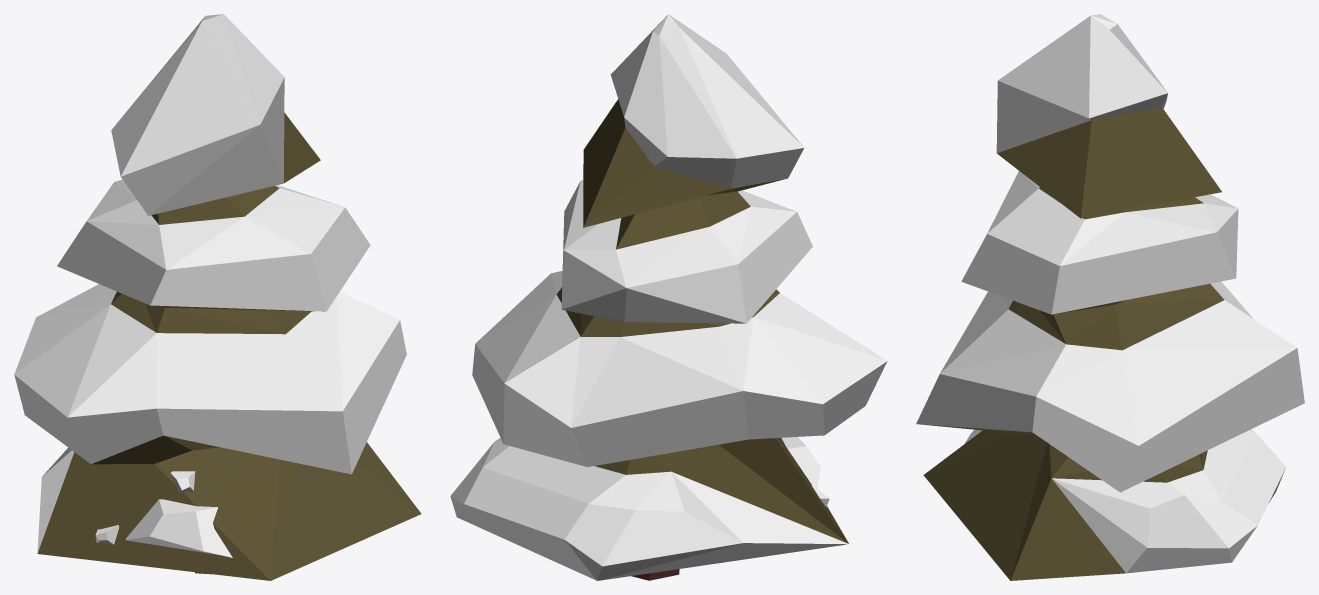
The model's file is TreeWinter5_Alt1.fbx.
3 renders of one model, left to right at view 1: azimuth 30°, elevation 25°; view 2: azimuth 150°, elevation 25°; view 3: azimuth 270°, elevation 25°, orthographic. The views are drawn at different scales.
Parts seen in each view (by area): view 1: TreeWinter5_Alt1; view 2: TreeWinter5_Alt1; view 3: TreeWinter5_Alt1.
Part boxes in pixels (x1=…): TreeWinter5_Alt1: x1=14, y1=14, x2=421, y2=580; TreeWinter5_Alt1: x1=450, y1=14, x2=887, y2=580; TreeWinter5_Alt1: x1=916, y1=14, x2=1304, y2=580.
Size of the model in its own units: 2 by 2.86 by 1.85.
